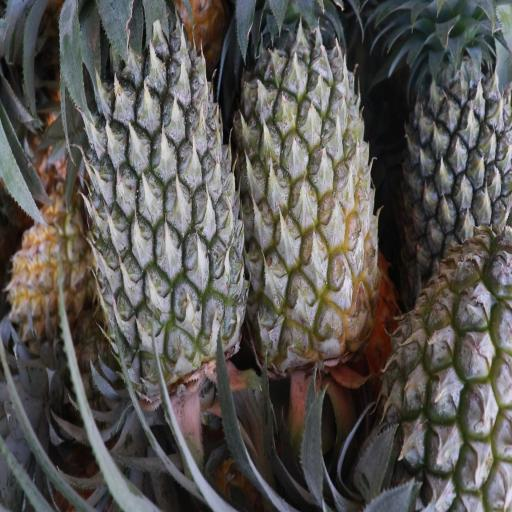------------------------------: (240, 16, 380, 348), (387, 238, 512, 512)
Pineapple - v8 v1: (8, 177, 88, 336)
